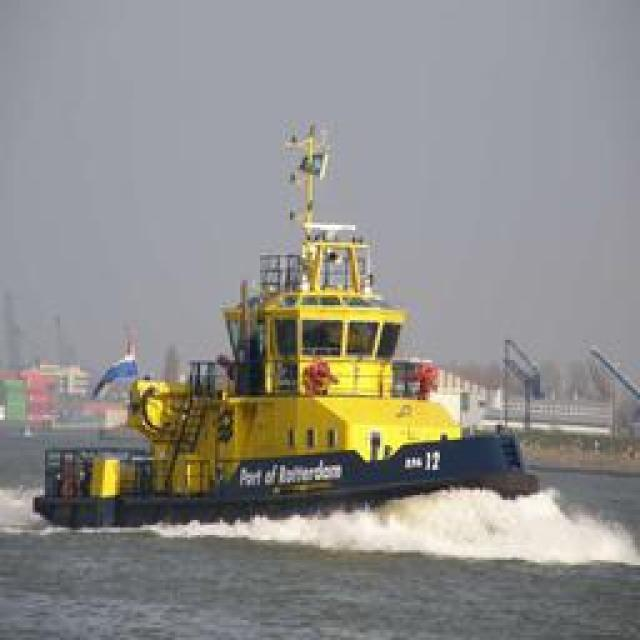CIV_Ship: (62, 162, 522, 520)
